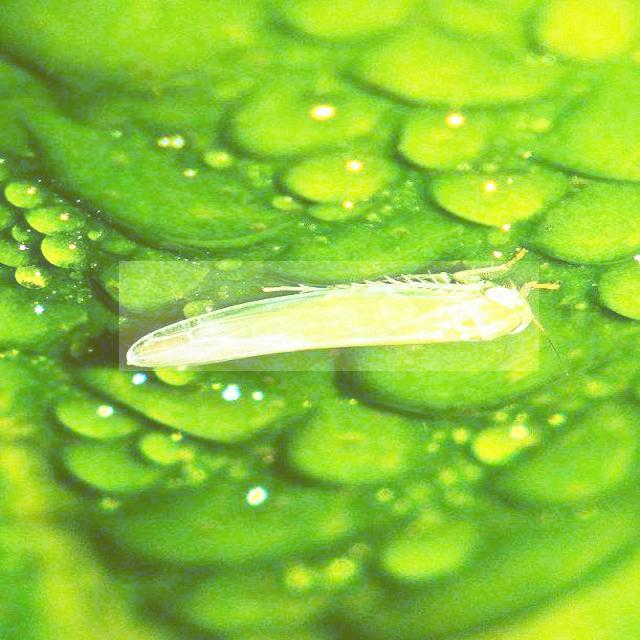green-leafhopper: (120, 261, 540, 371)
